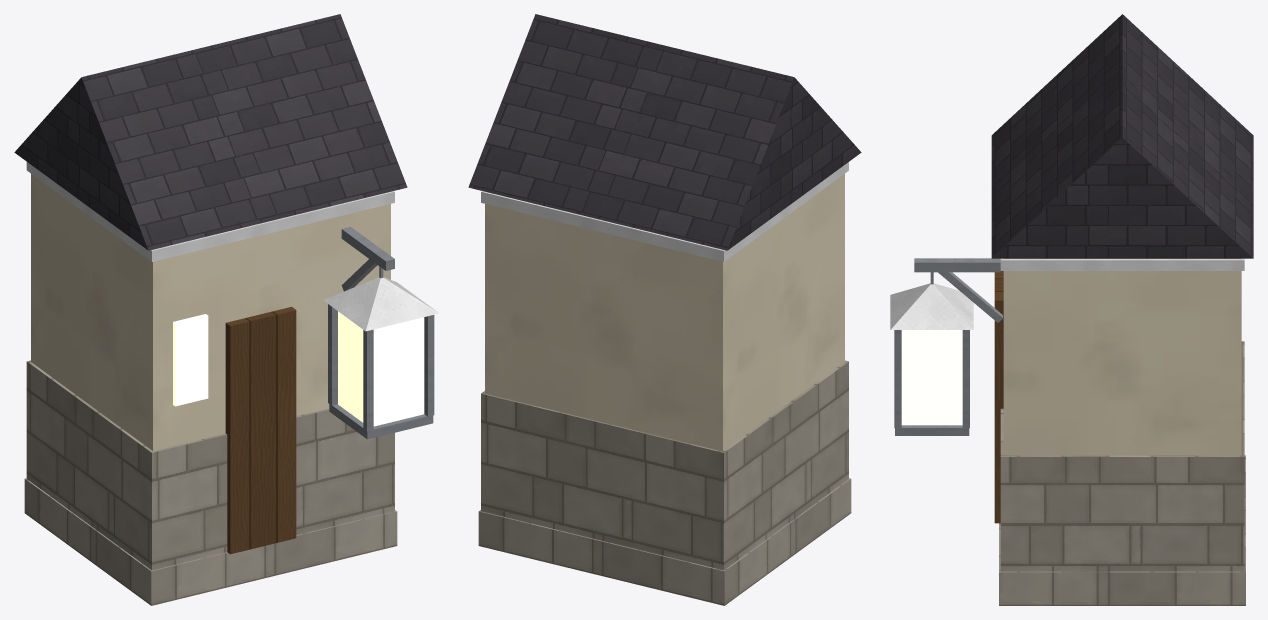
The model's file is protocol.spark.glb.
The picture shows the model from 3 angles, left to right: view 1: azimuth 30°, elevation 25°; view 2: azimuth 150°, elevation 25°; view 3: azimuth 270°, elevation 25°; orthographic projection. The views are drawn at different scales.
Visible parts, largest first — view 1: building.protocol.spark; view 2: building.protocol.spark; view 3: building.protocol.spark.
Part boxes in pixels (x1,y1,x2,y2): building.protocol.spark: [14, 14, 439, 605]; building.protocol.spark: [468, 14, 861, 605]; building.protocol.spark: [890, 14, 1253, 605].
Bounding box in the file's own units: 1.96 × 3.5 × 2.44.
Materials: 8 (7 with a texture image).
